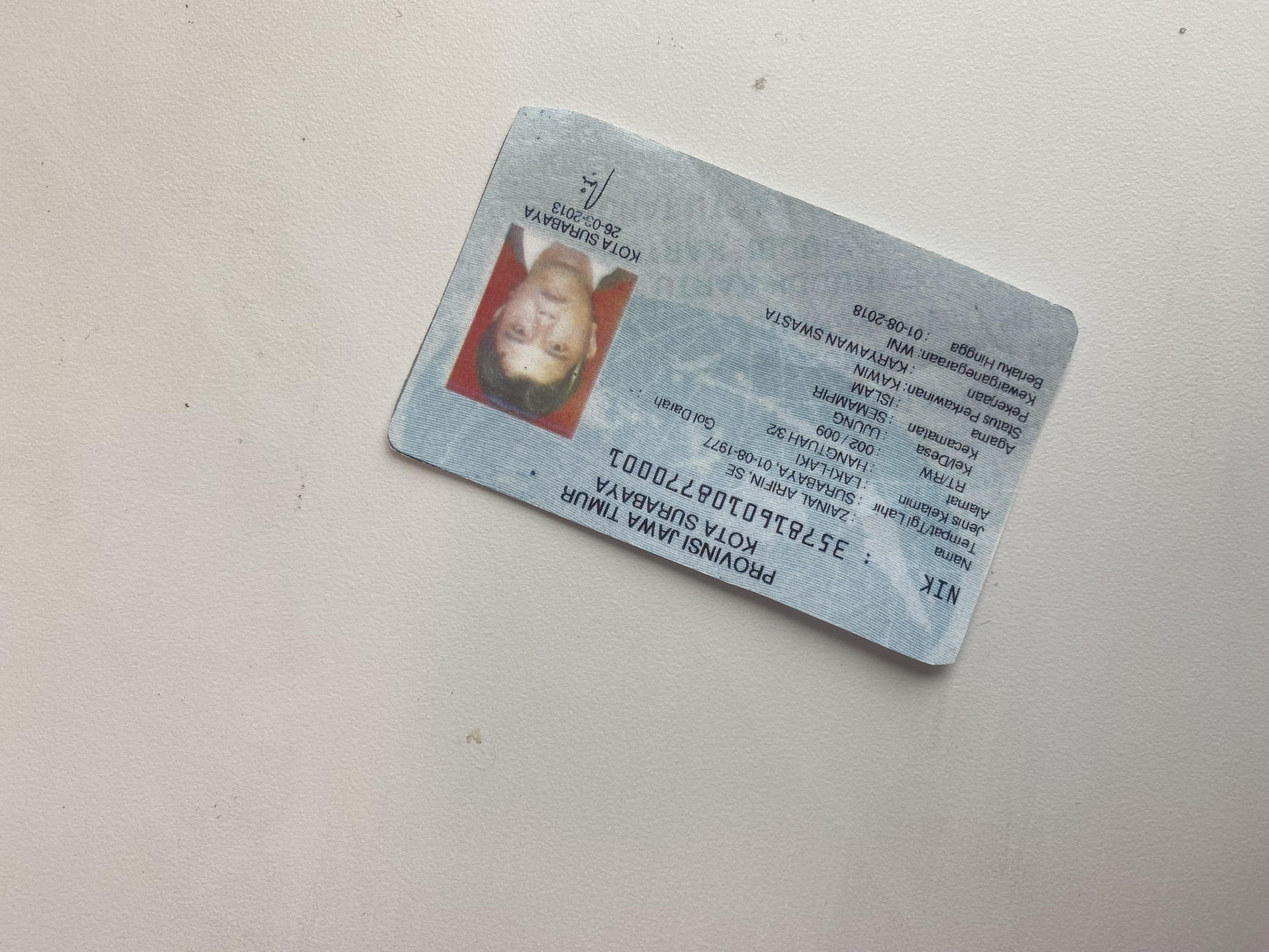ID-card: (375, 288, 1144, 817)
